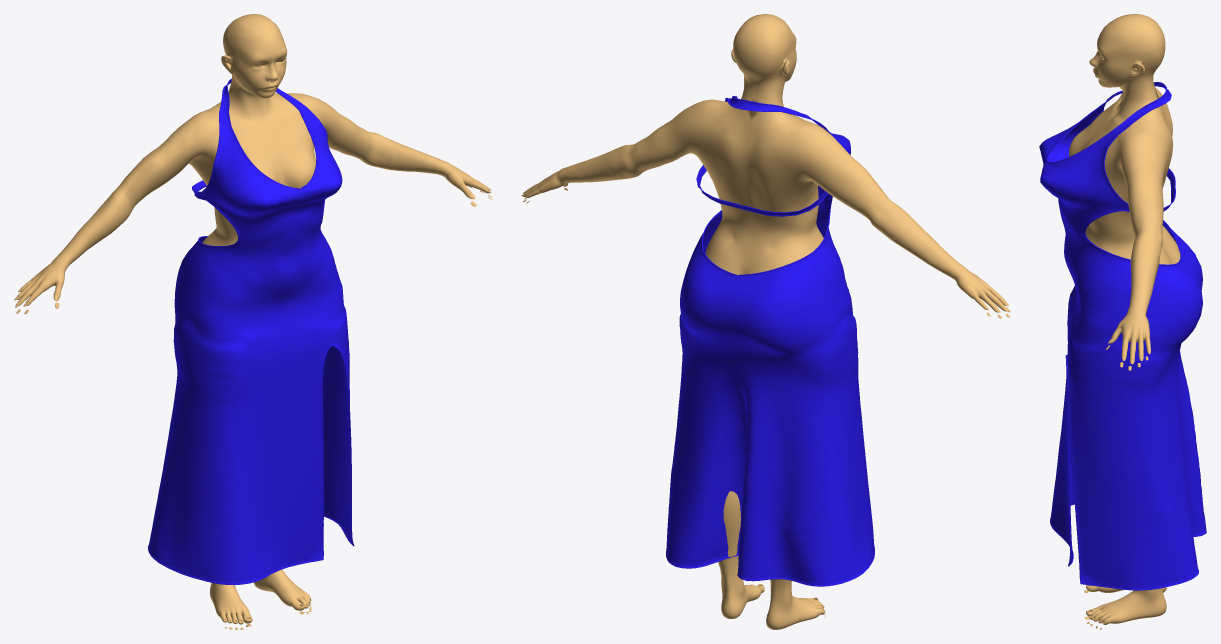
Rendered from dress8.glb.
3 views of the same model, side by side, from view 1: azimuth 30°, elevation 25°; view 2: azimuth 150°, elevation 25°; view 3: azimuth 270°, elevation 25° (orthographic). The views are drawn at different scales.
Visible parts, largest first — view 1: EveningDress, Body.003; view 2: EveningDress, Body.003; view 3: EveningDress, Body.003.
Boxes of the visible parts, x1,y1,x2,y2 form: EveningDress: (148, 78, 354, 585); Body.003: (16, 14, 491, 624); EveningDress: (666, 96, 874, 586); Body.003: (523, 14, 1006, 629); EveningDress: (1039, 82, 1206, 590); Body.003: (1069, 14, 1180, 624).
Bounding box in the file's own units: 1.58 × 1.86 × 0.4777.
